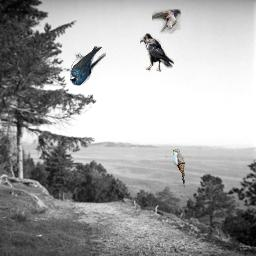Crow: (140, 33, 174, 73)
Cuckoo: (173, 149, 185, 189)
Swallow: (70, 46, 106, 86), (152, 9, 181, 34)
